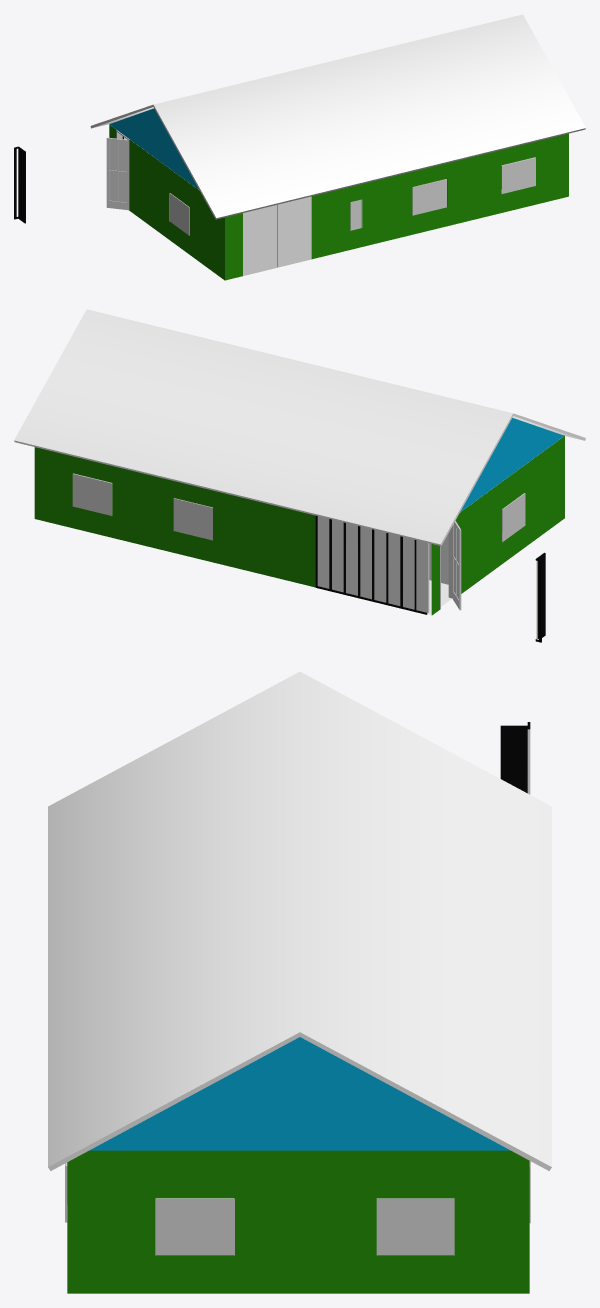
File: House21.FBX
3 views of the same model, one above another, from view 1: azimuth 30°, elevation 25°; view 2: azimuth 150°, elevation 25°; view 3: azimuth 270°, elevation 25° (orthographic). The views are drawn at different scales.
Visible parts, largest first — view 1: Plane002, Rectangle001, Plane003, Box002, Box001, PivotDoor006, FixedWindow002, FixedWindow001, Line007, FixedWindow005, FixedWindow008; view 2: Plane002, Rectangle001, Plane003, Line008, FixedWindow007, FixedWindow006, PivotDoor006, Box018, Box011, Box015, Box016, Line007 (+6 smaller); view 3: Plane002, Rectangle001, Plane004, FixedWindow003, FixedWindow004, Line007.
Part boxes in pixels (x1,y1,x2,y2): Plane002: (90,14,585,219); Rectangle001: (109,125,568,280); Plane003: (109,108,198,189); Box002: (277,196,311,267); Box001: (243,205,276,275); PivotDoor006: (106,130,129,210); FixedWindow002: (501,157,535,193); FixedWindow001: (412,179,446,215); Line007: (14,146,25,223); FixedWindow005: (169,193,189,235); FixedWindow008: (350,199,362,230); Plane002: (14,309,585,545); Rectangle001: (34,435,564,615); Plane003: (460,418,564,511); Line008: (315,515,427,614); FixedWindow007: (72,473,112,515); FixedWindow006: (173,498,212,540); PivotDoor006: (440,521,461,610); Box018: (416,540,429,612); Box011: (317,516,329,588); Box015: (374,530,386,602); Box016: (388,533,400,605); Line007: (535,552,545,642); Plane002: (48,671,551,1170); Rectangle001: (67,1150,529,1293); Plane004: (89,1037,510,1150); FixedWindow003: (155,1198,234,1255); FixedWindow004: (376,1198,454,1255); Line007: (500,722,530,794).
Size of the model in its own units: 781 by 226 by 378.
